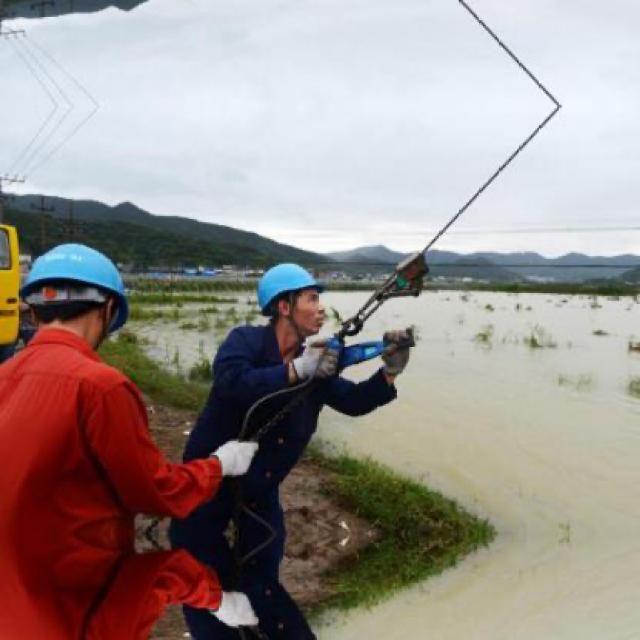helmet: (18, 233, 138, 355), (251, 256, 332, 345)
